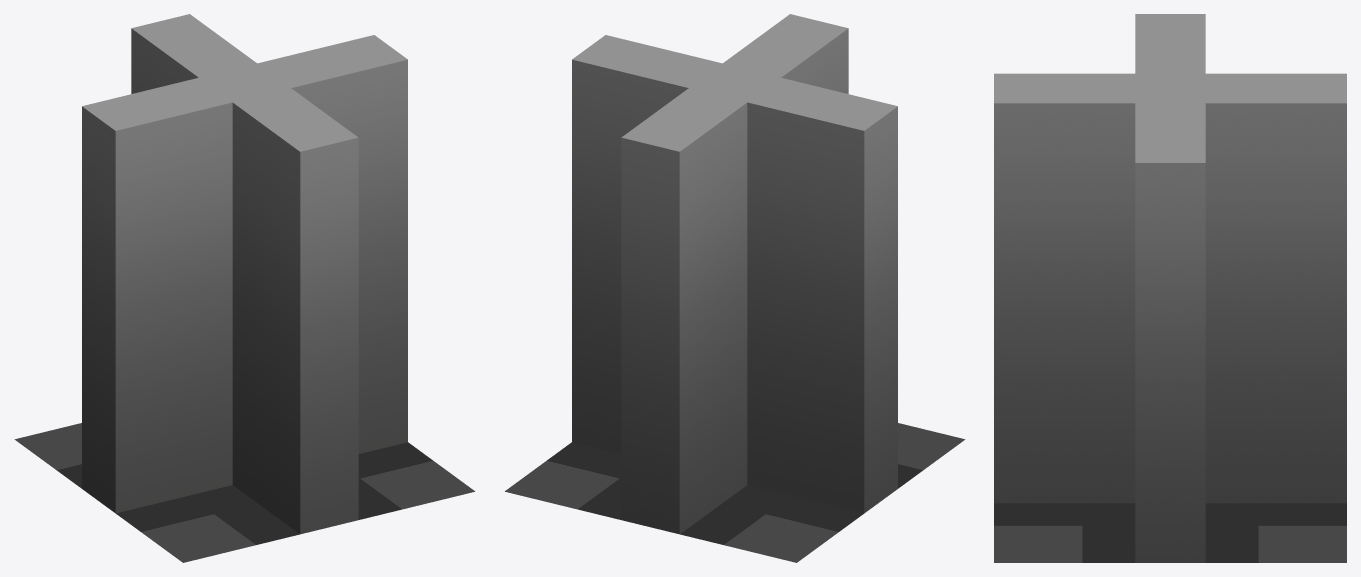
Rendered from SM_MuurKruis.fbx.
3 views of the same model, side by side, from view 1: azimuth 30°, elevation 25°; view 2: azimuth 150°, elevation 25°; view 3: azimuth 270°, elevation 25° (orthographic). The views are drawn at different scales.
Parts seen in each view (by area): view 1: SM_muurKruis; view 2: SM_muurKruis; view 3: SM_muurKruis.
Boxes of the visible parts, bbox=[...] form: SM_muurKruis: bbox=[14, 14, 474, 562]; SM_muurKruis: bbox=[505, 14, 965, 562]; SM_muurKruis: bbox=[994, 14, 1346, 562].
Bounding box in the file's own units: 200 × 250 × 200.
